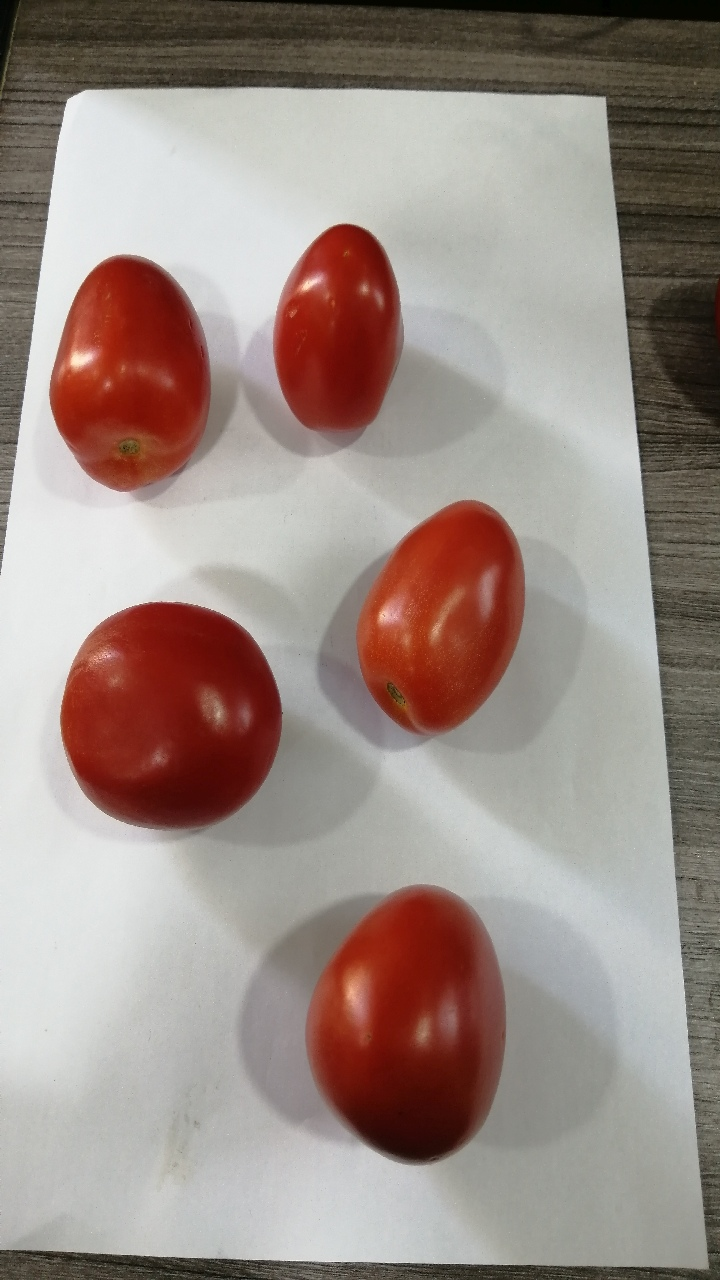tomateRojo: (281, 879, 524, 1182), (44, 586, 289, 859), (338, 474, 534, 768), (28, 242, 223, 519), (241, 209, 426, 459)
